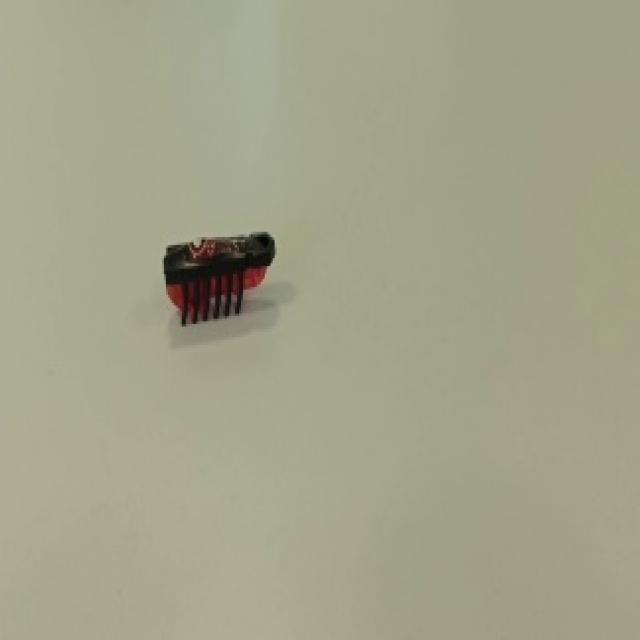2_NanoBug_Negro: (136, 202, 294, 356)
